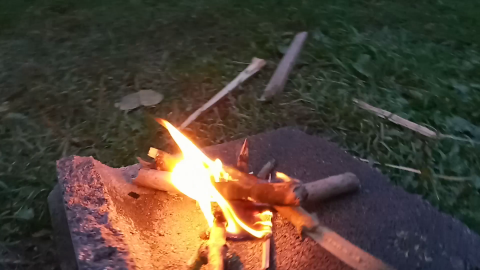fire: (141, 111, 253, 215)
